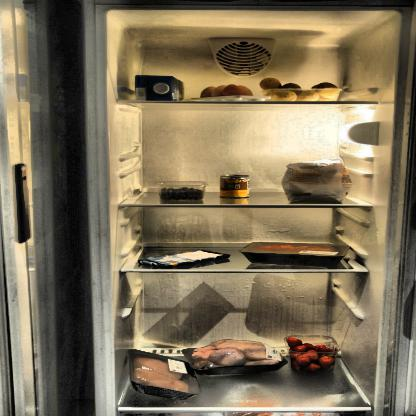beef: (246, 242, 342, 259)
blueberries: (158, 185, 204, 202)
chicken: (188, 338, 281, 370), (132, 355, 195, 395)
chocolate: (136, 248, 229, 272)
corn: (217, 173, 252, 200)
eggs: (200, 84, 256, 97)
milk: (133, 74, 189, 104)
potato: (260, 76, 338, 101)
strawberries: (286, 336, 339, 374)
